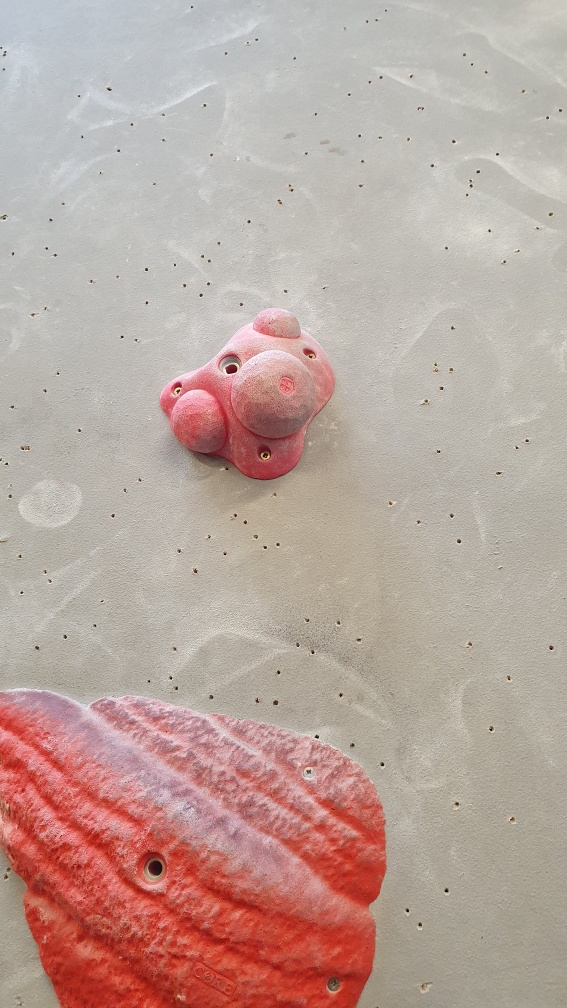Sloper: (225, 347, 319, 441), (169, 391, 228, 460), (248, 302, 308, 342)
